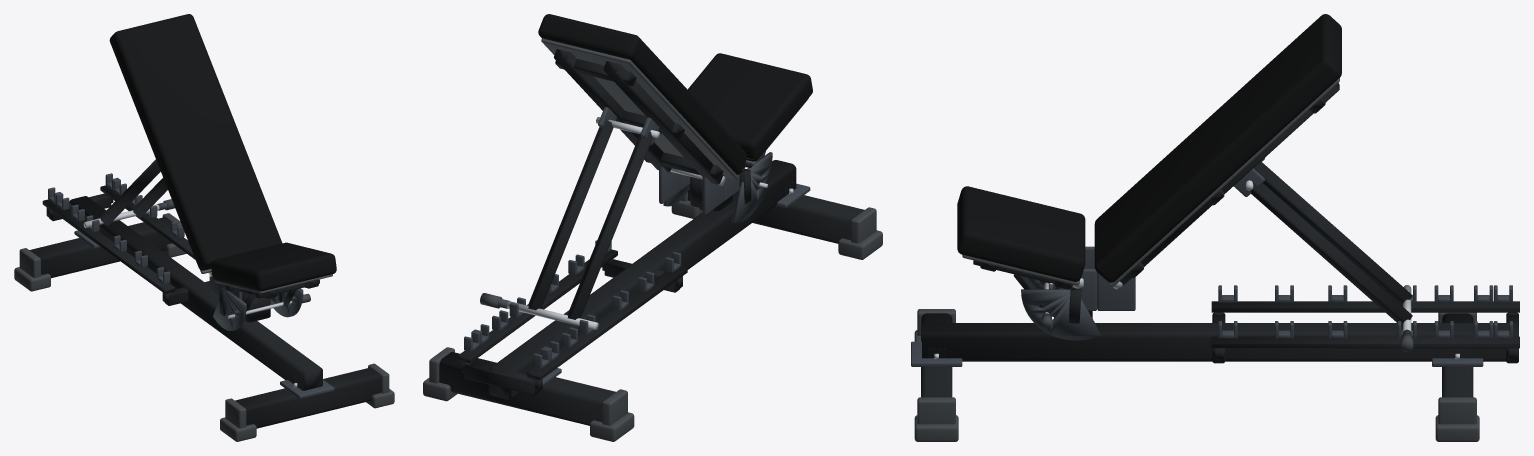
Rendered from incline_bench.glb.
The picture shows the model from 3 angles, left to right: view 1: azimuth 30°, elevation 25°; view 2: azimuth 150°, elevation 25°; view 3: azimuth 270°, elevation 25°; orthographic projection. The views are drawn at different scales.
Parts seen in each view (by area): view 1: BackrestCushion_Padding, FrameCrossbar_Frame, SeatCushion_Padding, FrontStabilizerFoot_Frame, BackrestAdjustmentLadder_Frame, RubberEndCaps_Rubber, RearStabilizerFoot_Frame, BackrestAdjustmentLadder_Trim, BackrestAdjustmentMechanism_Frame, SeatAdjustmentMechanism_Trim, SeatFrame_Frame, MainFrame_Frame (+2 smaller); view 2: FrameCrossbar_Frame, SeatCushion_Padding, BackrestCushion_Padding, BackrestFrame_Frame, BackrestAdjustmentLadder_Frame, BackrestAdjustmentMechanism_Frame, RearStabilizerFoot_Frame, RubberEndCaps_Rubber, BackrestFrame_Cap, BackrestAdjustmentLadder_Trim, FrontStabilizerFoot_Frame, MainFrame_Trim (+4 smaller); view 3: BackrestCushion_Padding, FrameCrossbar_Frame, SeatCushion_Padding, BackrestAdjustmentLadder_Frame, BackrestAdjustmentMechanism_Frame, RubberEndCaps_Rubber, BackrestAdjustmentLadder_Trim, SeatAdjustmentMechanism_Trim, MainFrame_Trim, BackrestFrame_Frame, FrontStabilizerFoot_Frame, RearStabilizerFoot_Frame (+3 smaller).
Part boxes in pixels (x1,y1,x2,y2): BackrestCushion_Padding: (109,14,282,270); FrameCrossbar_Frame: (69,196,322,390); SeatCushion_Padding: (211,242,336,291); FrontStabilizerFoot_Frame: (235,367,380,428); BackrestAdjustmentLadder_Frame: (42,185,209,305); RubberEndCaps_Rubber: (14,213,394,441); RearStabilizerFoot_Frame: (29,217,172,278); BackrestAdjustmentLadder_Trim: (48,173,184,284); BackrestAdjustmentMechanism_Frame: (100,159,167,225); SeatAdjustmentMechanism_Trim: (213,288,303,330); SeatFrame_Frame: (224,279,319,298); MainFrame_Frame: (242,292,270,322); FrameCrossbar_Frame: (488,160,796,399); SeatCushion_Padding: (687,53,812,161); BackrestCushion_Padding: (538,14,747,174); BackrestFrame_Frame: (554,49,723,184); BackrestAdjustmentLadder_Frame: (457,249,687,395); BackrestAdjustmentMechanism_Frame: (528,120,652,319); RearStabilizerFoot_Frame: (439,352,615,425); RubberEndCaps_Rubber: (423,192,882,441); BackrestFrame_Cap: (541,38,738,179); BackrestAdjustmentLadder_Trim: (464,240,681,368); FrontStabilizerFoot_Frame: (688,188,864,243); MainFrame_Trim: (659,166,739,214); BackrestCushion_Padding: (1094,14,1341,282); FrameCrossbar_Frame: (922,323,1516,361); SeatCushion_Padding: (957,186,1085,281); BackrestAdjustmentLadder_Frame: (1211,301,1519,363); BackrestAdjustmentMechanism_Frame: (1250,162,1412,326); RubberEndCaps_Rubber: (914,309,1479,441); BackrestAdjustmentLadder_Trim: (1218,285,1512,338); SeatAdjustmentMechanism_Trim: (1021,277,1100,340); MainFrame_Trim: (1058,246,1135,310); BackrestFrame_Frame: (1120,83,1339,284); FrontStabilizerFoot_Frame: (921,313,952,397); RearStabilizerFoot_Frame: (1442,313,1473,397).
Bounding box in the file's own units: 0.635 × 1.08 × 1.66.
7 materials, 2 textured.
